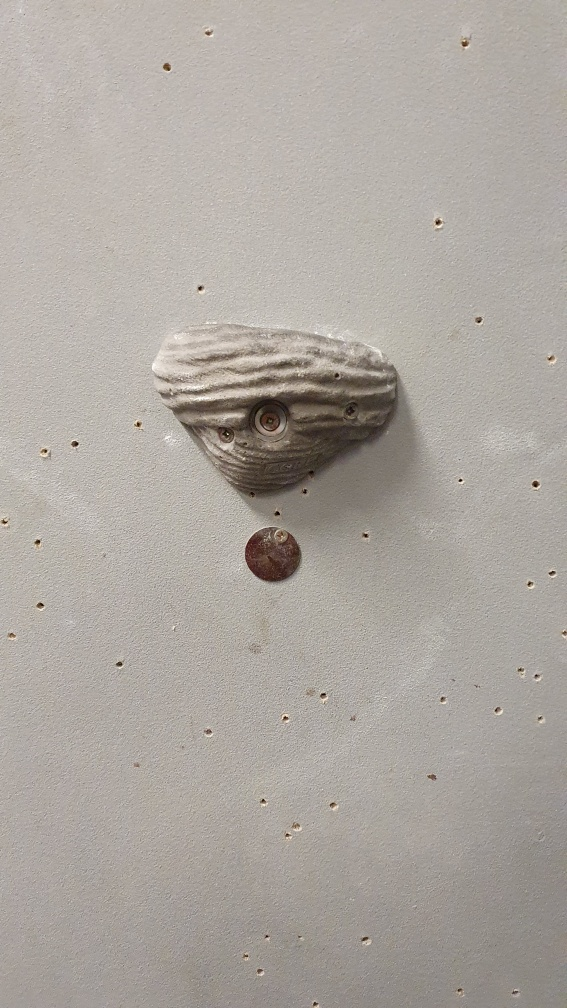Hand Start: (243, 524, 303, 585)
Jug: (149, 320, 403, 501)
